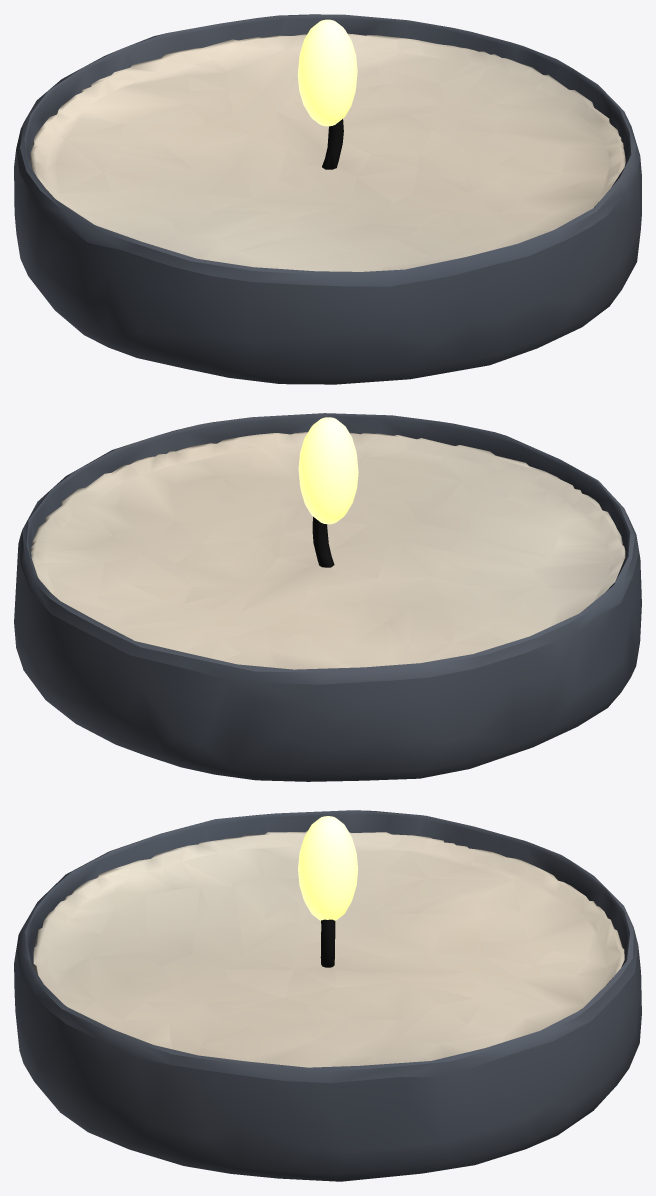
The model's file is frost_tealight.glb.
3 renders of one model, top to bottom at view 1: azimuth 30°, elevation 25°; view 2: azimuth 150°, elevation 25°; view 3: azimuth 270°, elevation 25°, orthographic.
Visible parts, largest first — view 1: frost_tealight, flame; view 2: frost_tealight, flame; view 3: frost_tealight, flame.
Boxes of the visible parts, bbox=[...] form: frost_tealight: bbox=[14, 14, 641, 384]; flame: bbox=[297, 19, 357, 126]; frost_tealight: bbox=[14, 413, 641, 781]; flame: bbox=[298, 417, 358, 524]; frost_tealight: bbox=[14, 810, 641, 1181]; flame: bbox=[298, 816, 358, 920].
Size of the model in its own units: 12.42 by 5.38 by 12.5.
